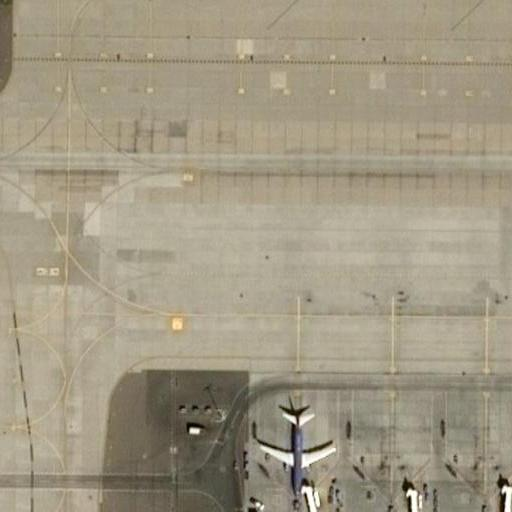Aircraft: (250, 398, 340, 501)
